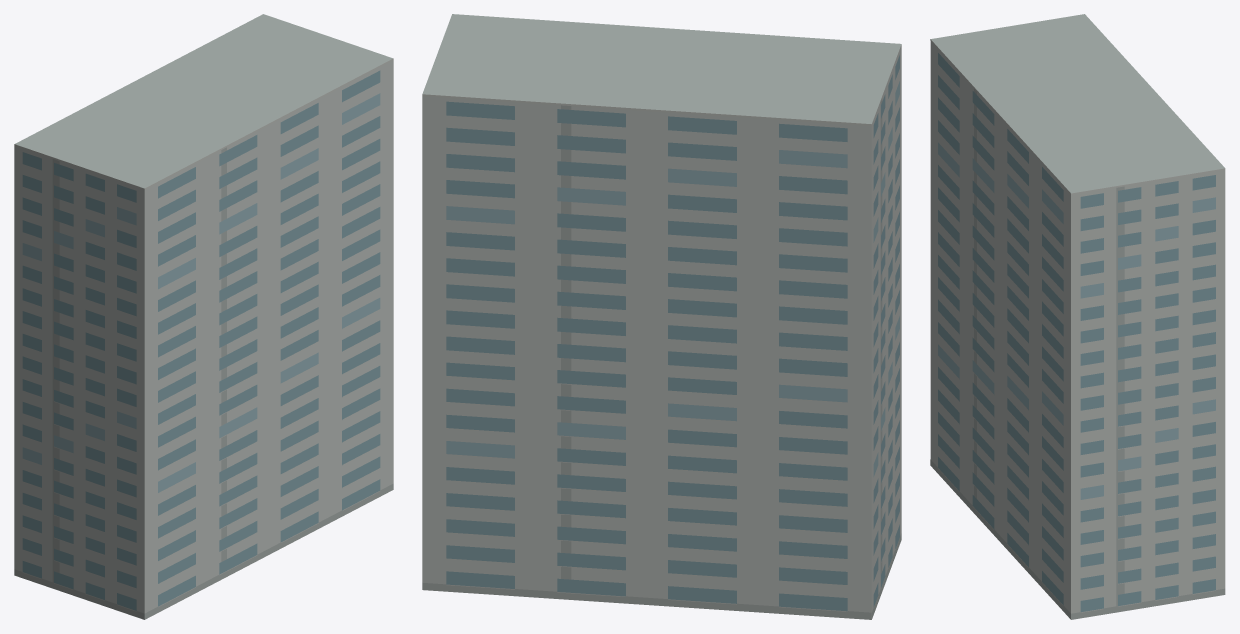
The model's file is residential-171dca52-cb8b-4899-b370-6ab34164c334.glb.
The picture shows the model from 3 angles, left to right: view 1: azimuth 30°, elevation 25°; view 2: azimuth 150°, elevation 25°; view 3: azimuth 270°, elevation 25°; orthographic projection. The views are drawn at different scales.
Visible parts, largest first — view 1: residential-171dca52-cb8b-4899-b370-6ab34164c334.tmp; view 2: residential-171dca52-cb8b-4899-b370-6ab34164c334.tmp; view 3: residential-171dca52-cb8b-4899-b370-6ab34164c334.tmp.
Part boxes in pixels (left/top/right/bottom): residential-171dca52-cb8b-4899-b370-6ab34164c334.tmp: left=14, top=14, right=393, bottom=619; residential-171dca52-cb8b-4899-b370-6ab34164c334.tmp: left=422, top=14, right=901, bottom=619; residential-171dca52-cb8b-4899-b370-6ab34164c334.tmp: left=930, top=14, right=1225, bottom=619.
Bounding box in the file's own units: 56.87 × 63 × 39.5.
